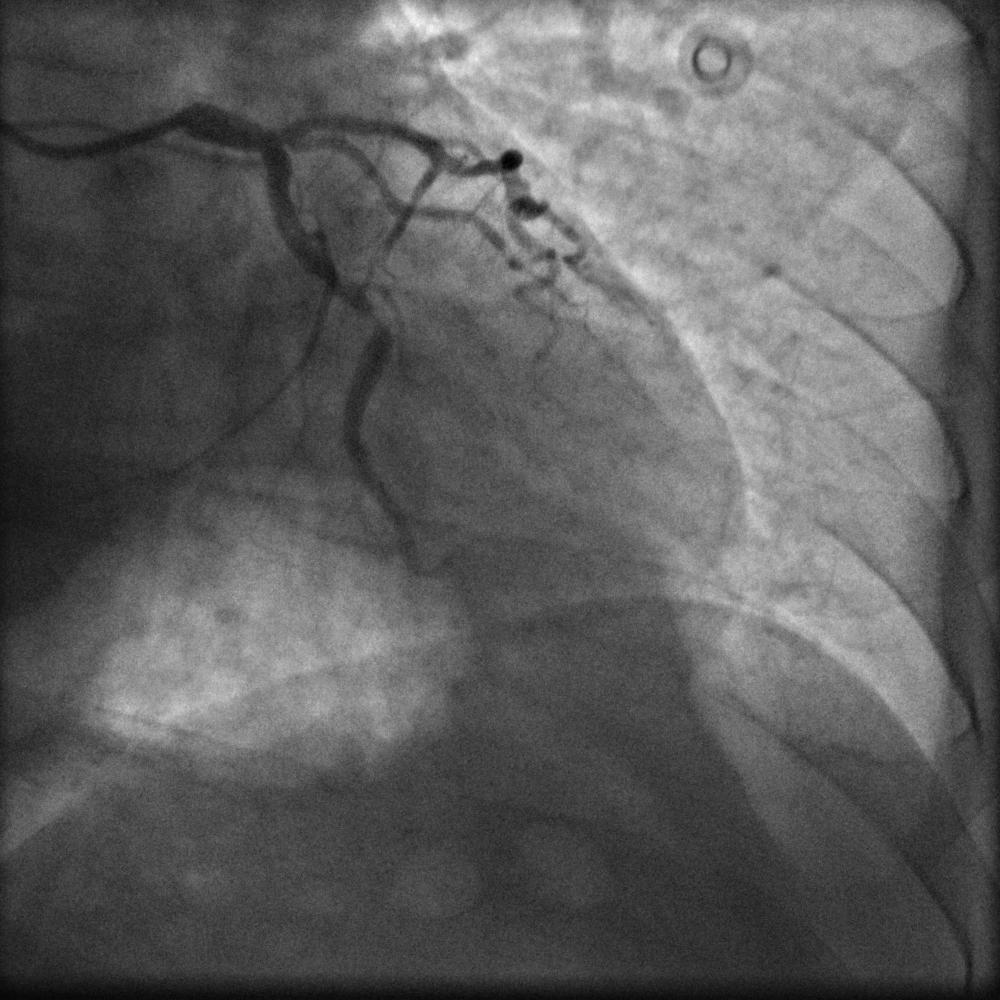Stenosis: (354, 290, 391, 338)
